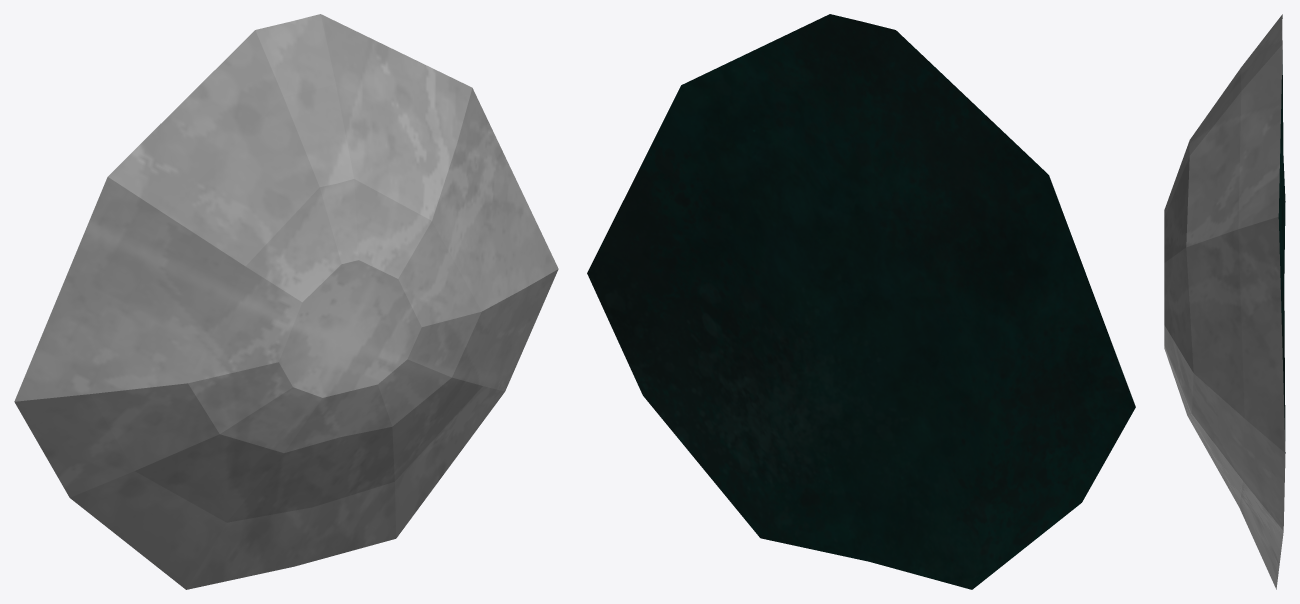
The model's file is MOD_L2_Crystal04.fbx.
3 renders of one model, left to right at view 1: azimuth 30°, elevation 25°; view 2: azimuth 150°, elevation 25°; view 3: azimuth 270°, elevation 25°, orthographic. The views are drawn at different scales.
Parts seen in each view (by area): view 1: Plane.006; view 2: Plane.006; view 3: Plane.006.
Boxes of the visible parts, left/top/right/bottom form: Plane.006: left=14, top=14, right=558, bottom=589; Plane.006: left=587, top=14, right=1135, bottom=589; Plane.006: left=1164, top=14, right=1285, bottom=589.
Size of the model in its own units: 4.68 by 4.44 by 0.9505.
